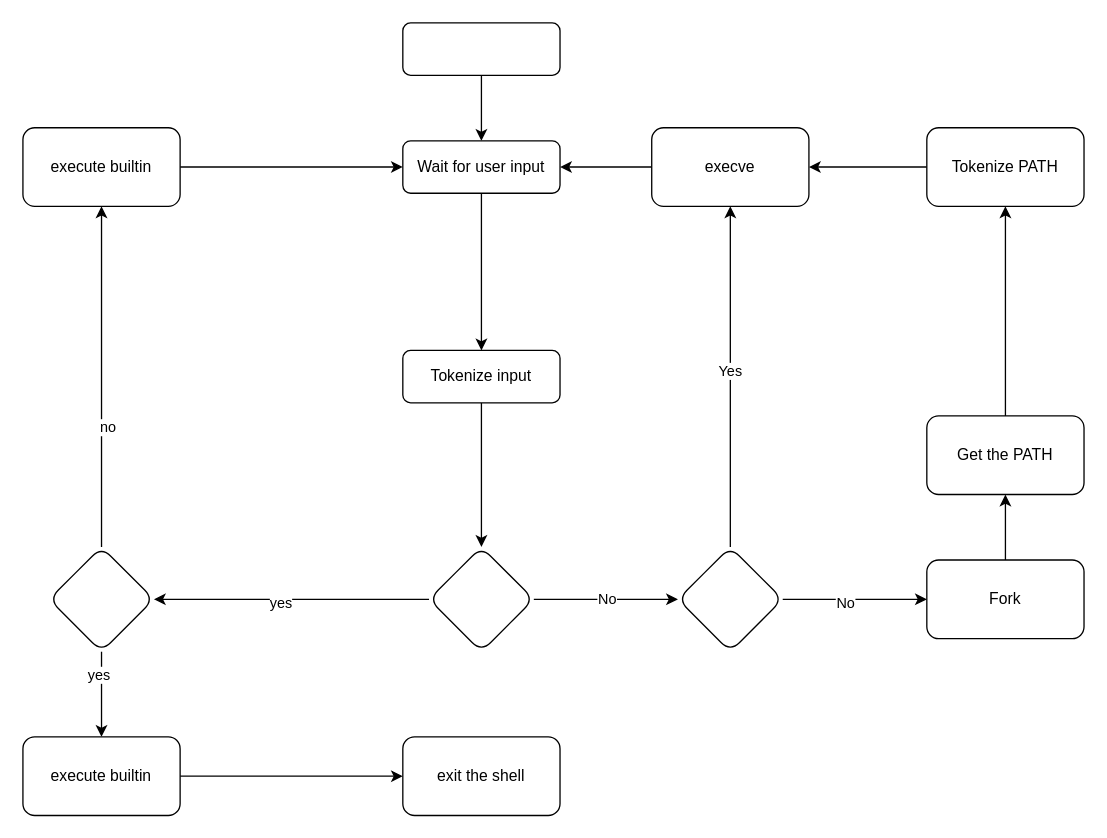
This 1107x838 diagram has some shape labels left out. Each missing label, with the box of its shape:
Is builtin ?: (428, 546, 534, 652)
Is exit ?: (48, 546, 154, 652)
start the shell: (402, 22, 560, 75)
There is "/" ?: (677, 546, 783, 652)
